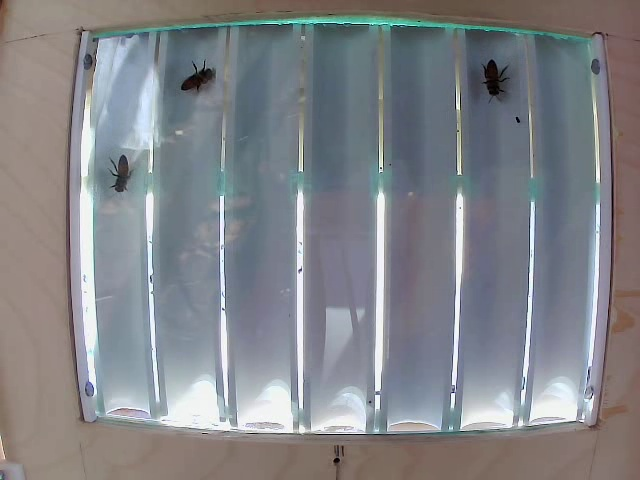bee: (475, 56, 516, 106), (183, 62, 219, 109), (106, 154, 147, 190)
